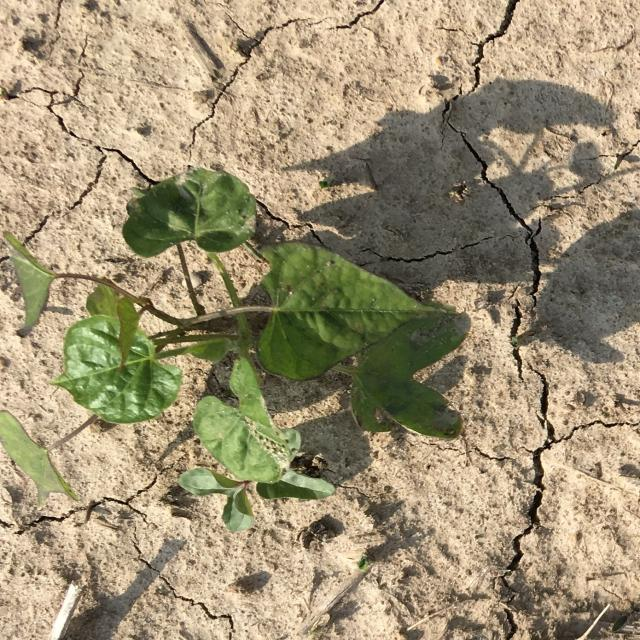MorningGlory: (0, 168, 468, 532)
